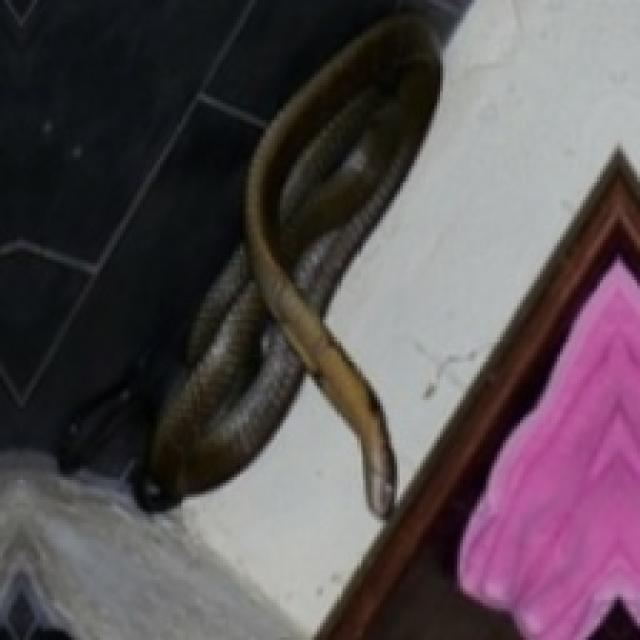king cobra: (134, 14, 437, 514)
